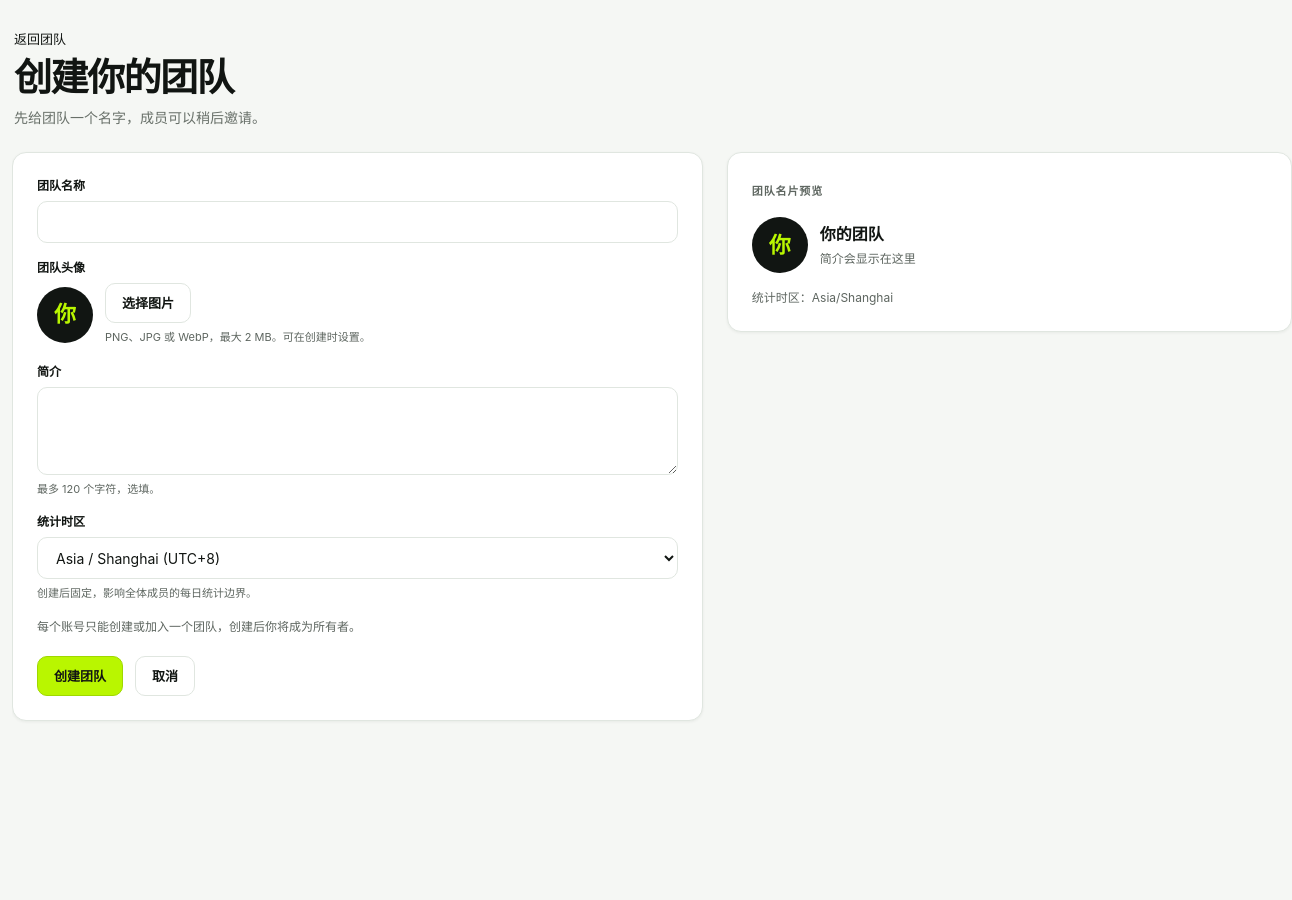
Scenario: Create team gate › shows the success screen after create instead of the already-member gate
The width and height of the screenshot is (1292, 900).
Type "Nexorai" into the field labelled "团队名称".
click(357, 222); type("Nexorai")  # box [37,201,678,243]
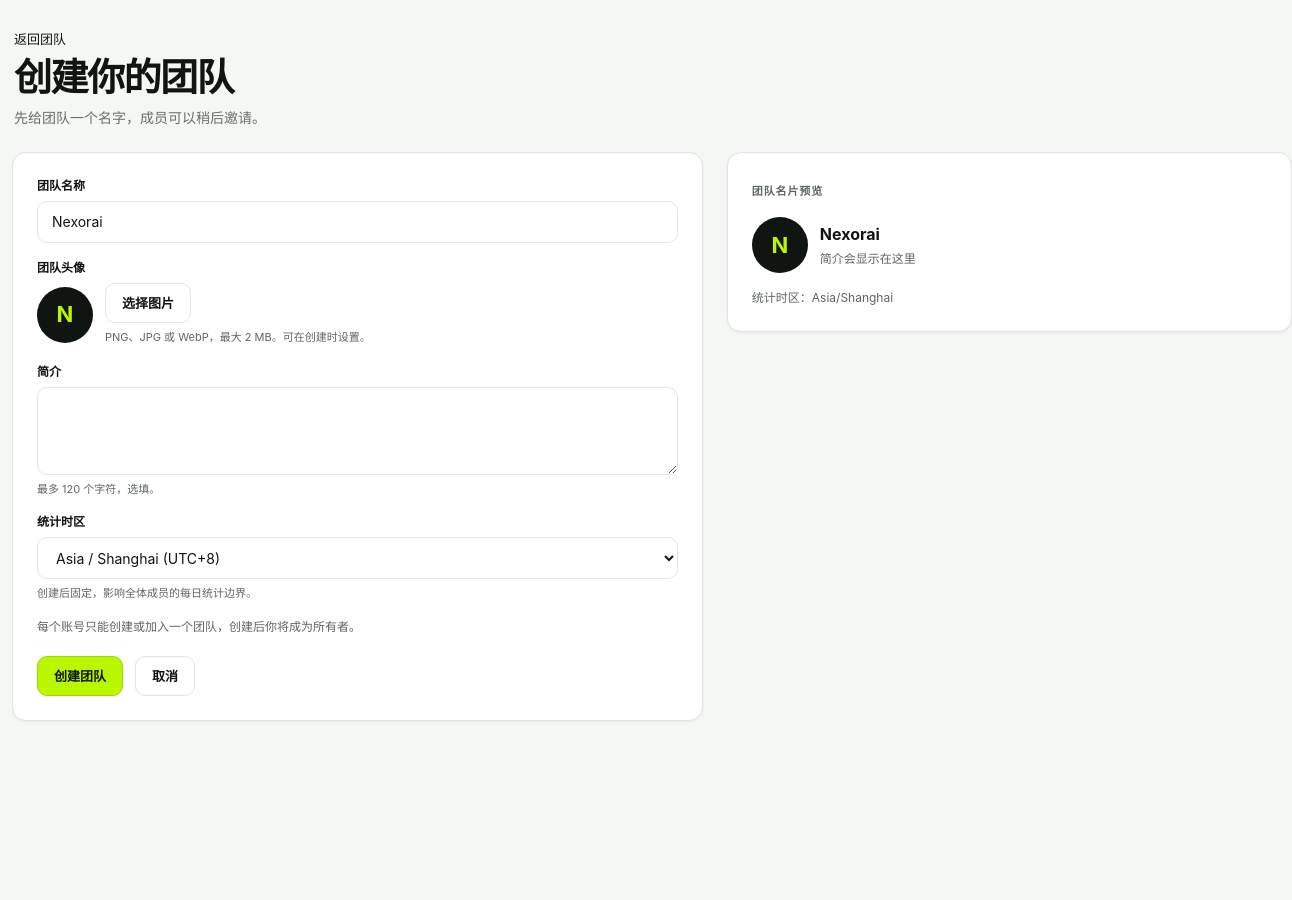
Click the button "创建团队".
click(80, 676)  # box [37,656,123,696]
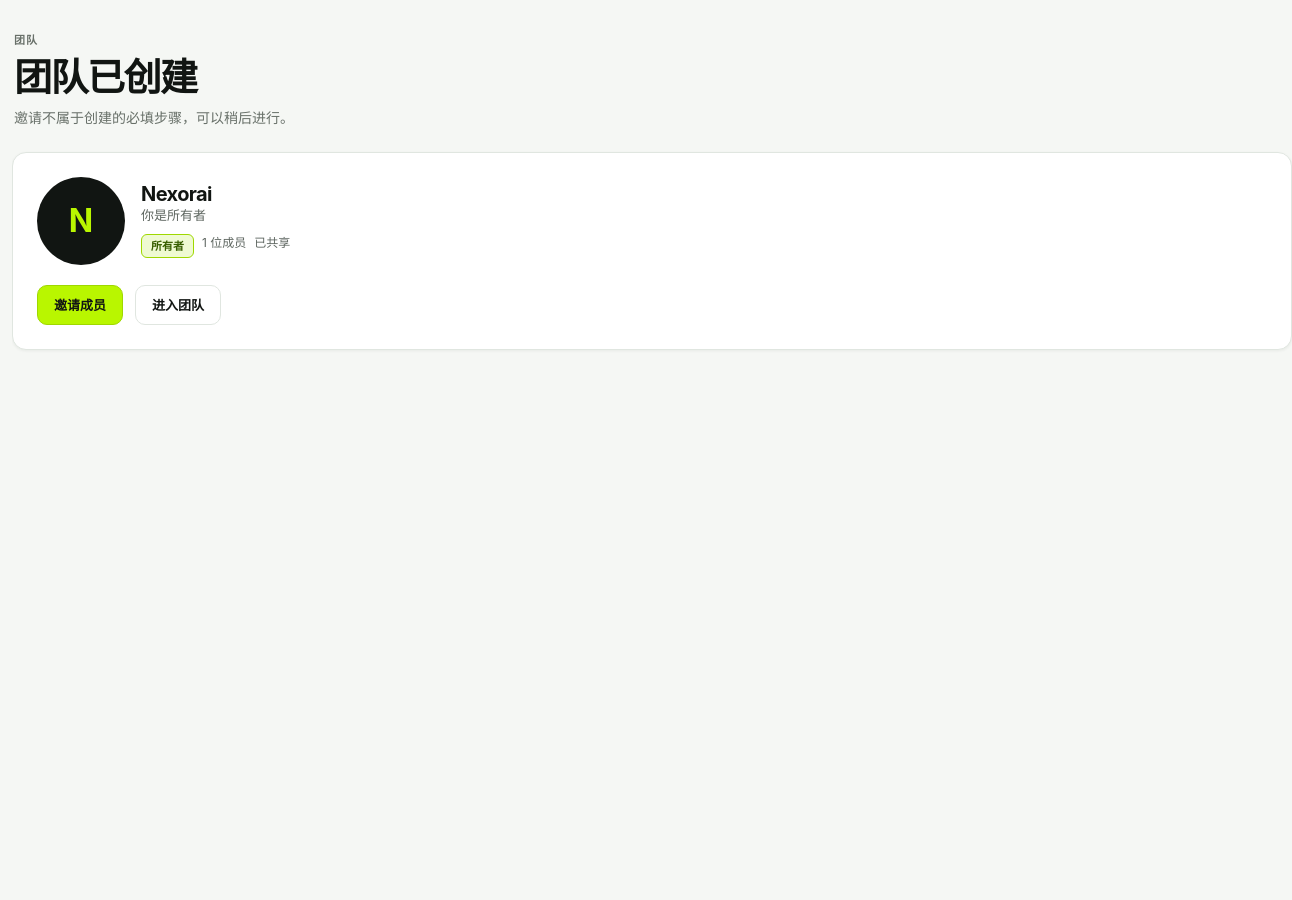
Now the heading "团队已创建" is shown, box [14,54,196,100]
